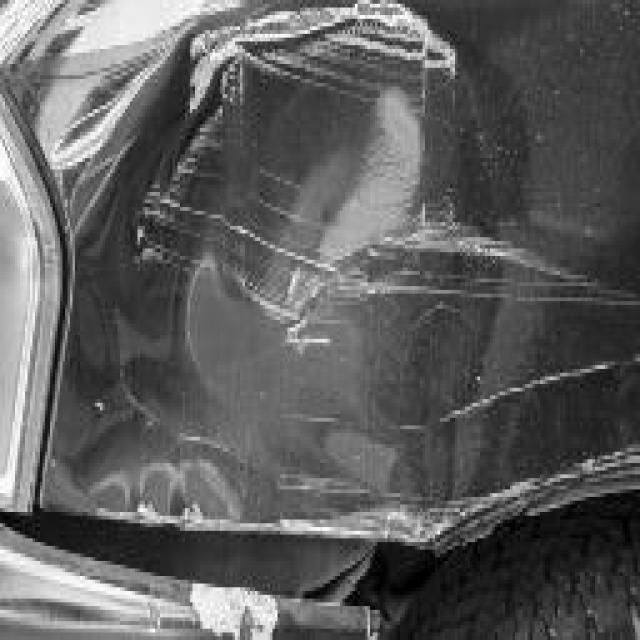Fender: (48, 4, 592, 557)
